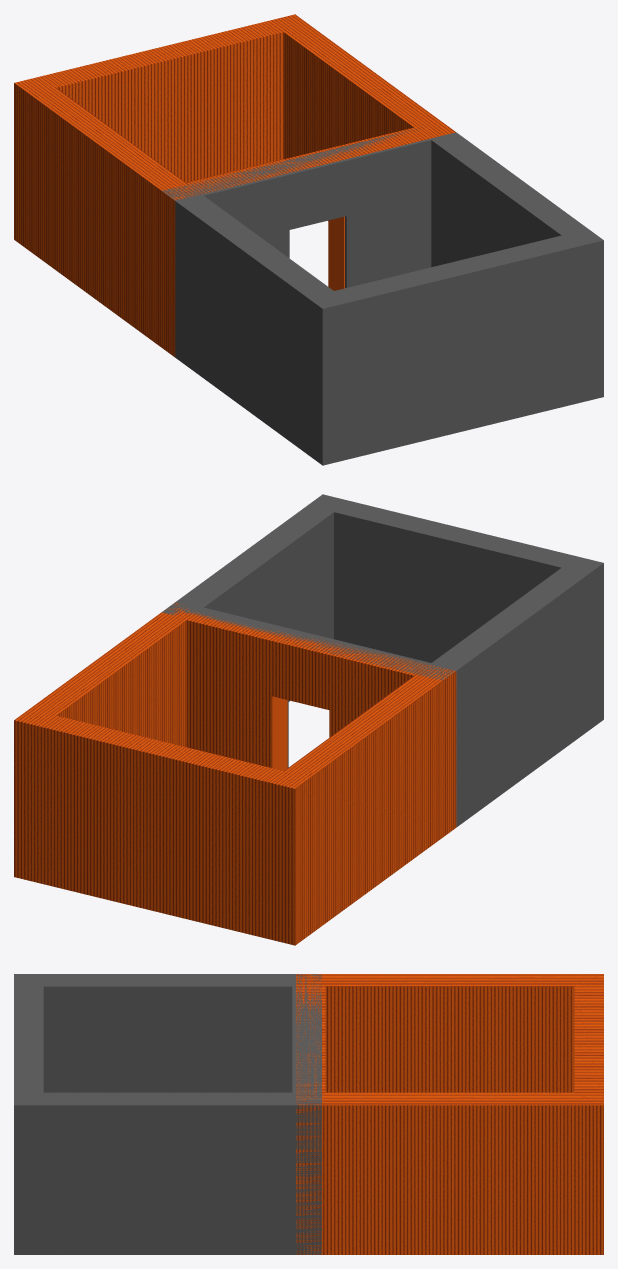
File: mur3.glb
3 views of the same model, one above another, from view 1: azimuth 30°, elevation 25°; view 2: azimuth 150°, elevation 25°; view 3: azimuth 270°, elevation 25° (orthographic). The views are drawn at different scales.
Visible parts, largest first — view 1: Cube.001, Cube; view 2: Cube, Cube.001; view 3: Cube.001, Cube.
Boxes of the visible parts, x1=… form: Cube.001: x1=162, y1=129, x2=603, y2=465; Cube: x1=14, y1=14, x2=455, y2=357; Cube: x1=14, y1=602, x2=456, y2=945; Cube.001: x1=162, y1=494, x2=603, y2=827; Cube.001: x1=14, y1=974, x2=321, y2=1254; Cube: x1=296, y1=974, x2=603, y2=1254.
Size of the model in its own units: 9.94 by 5.3 by 18.91.
2 materials, 2 textured.
